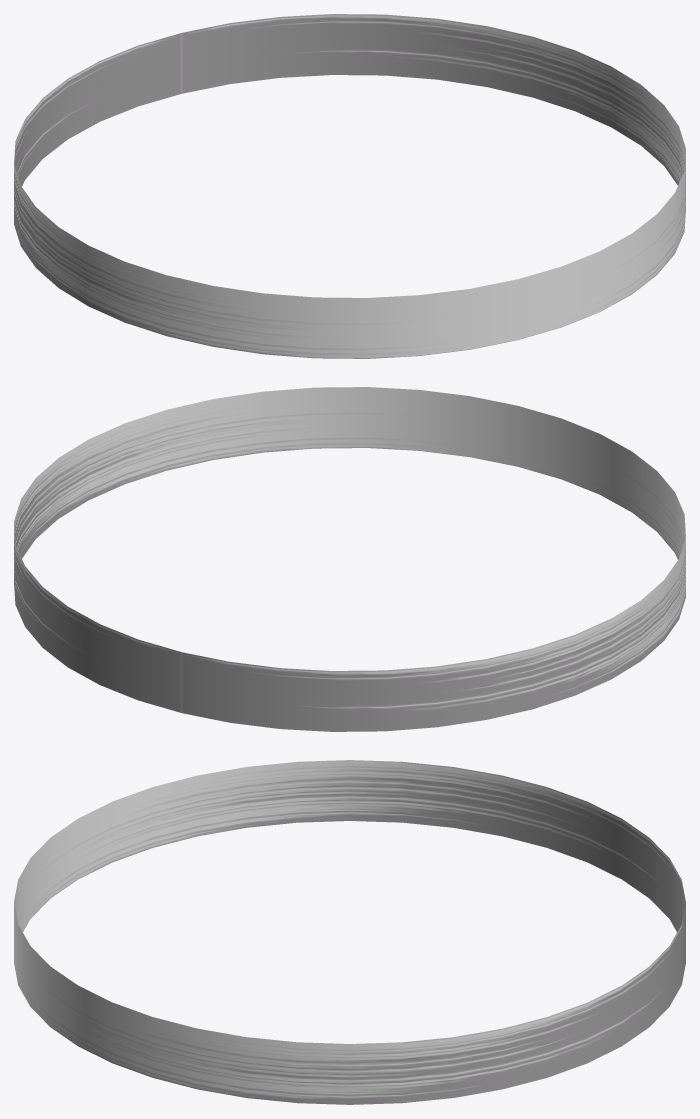
File: Effect_Rotation_0.fbx
3 views of the same model, one above another, from view 1: azimuth 30°, elevation 25°; view 2: azimuth 150°, elevation 25°; view 3: azimuth 270°, elevation 25° (orthographic).
Parts seen in each view (by area): view 1: eff_wind01; view 2: eff_wind01; view 3: eff_wind01.
Part boxes in pixels (<box>): eff_wind01: <box>14,14,685,358</box>; eff_wind01: <box>14,387,685,731</box>; eff_wind01: <box>14,760,685,1104</box>.
Bounding box in the file's own units: 200 × 20 × 200.
1 material, 1 textured.
